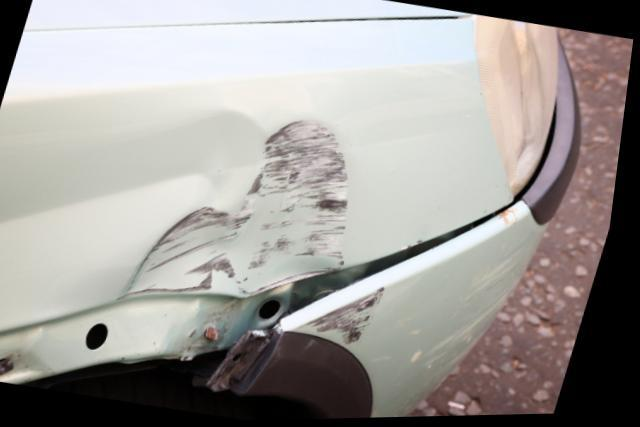dislocated part: (254, 198, 530, 335)
scratch: (132, 122, 354, 295), (422, 250, 527, 384), (316, 284, 398, 348)
